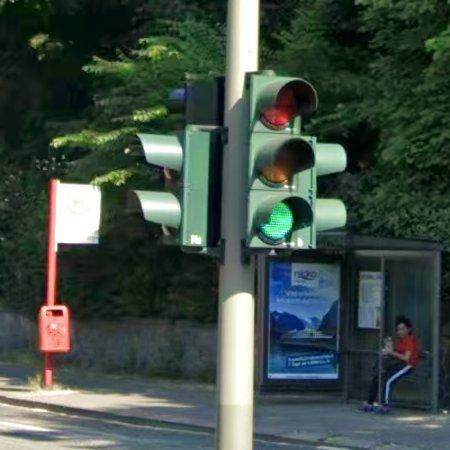traffic lights: (241, 75, 320, 255), (127, 122, 226, 253), (314, 138, 351, 235), (166, 74, 225, 128)
